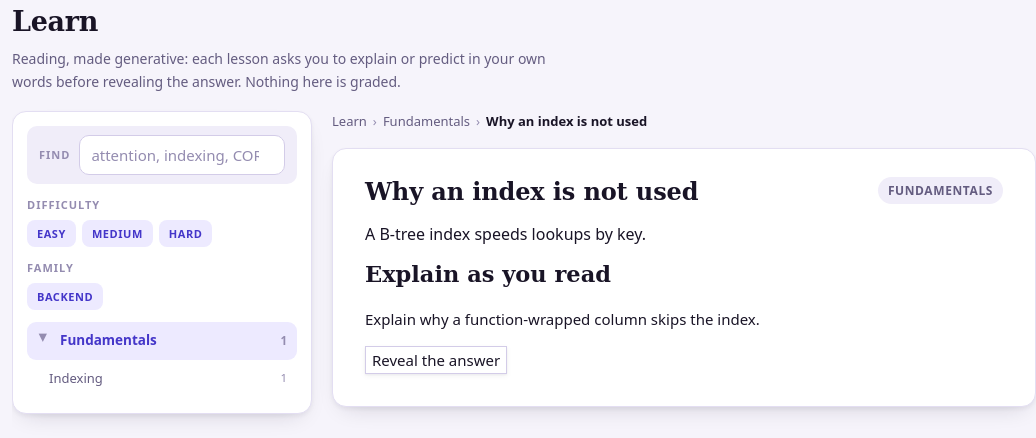
Test case: Lesson renderer (issue #41/#46) › carries the same difficulty filter row as Practice, in its own labeled group next to family
Expected: the heading "Why an index is not used" is shown, [365,177,698,207]
Click the button "Learn".
click(349, 121)  # box [328,109,371,134]
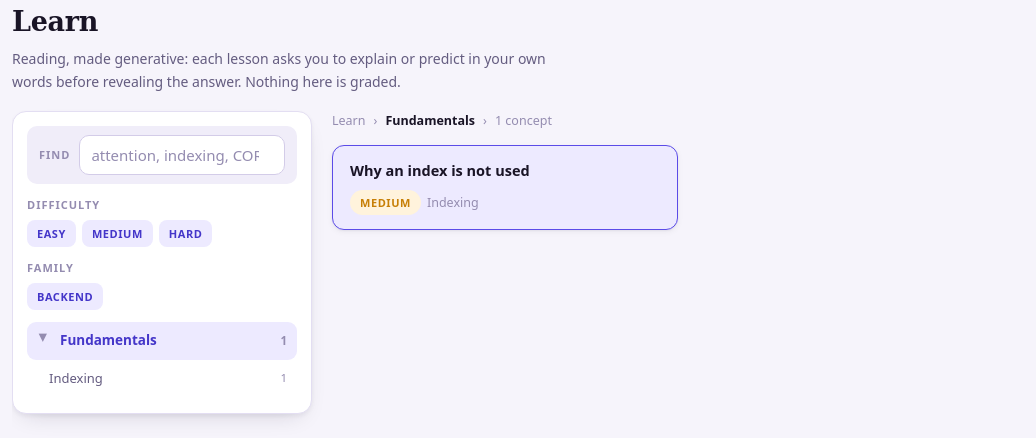
Expected: the text "Difficulty" is shown, [27,197,100,212]
Now the navigation bar "Breadcrumb" is gone
